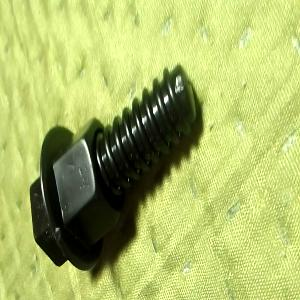parafuso: (28, 64, 199, 272)
